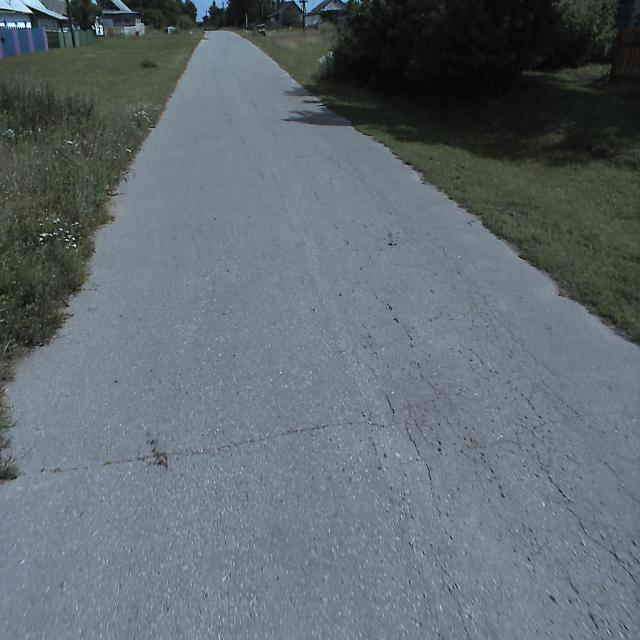road: (0, 31, 640, 639)
